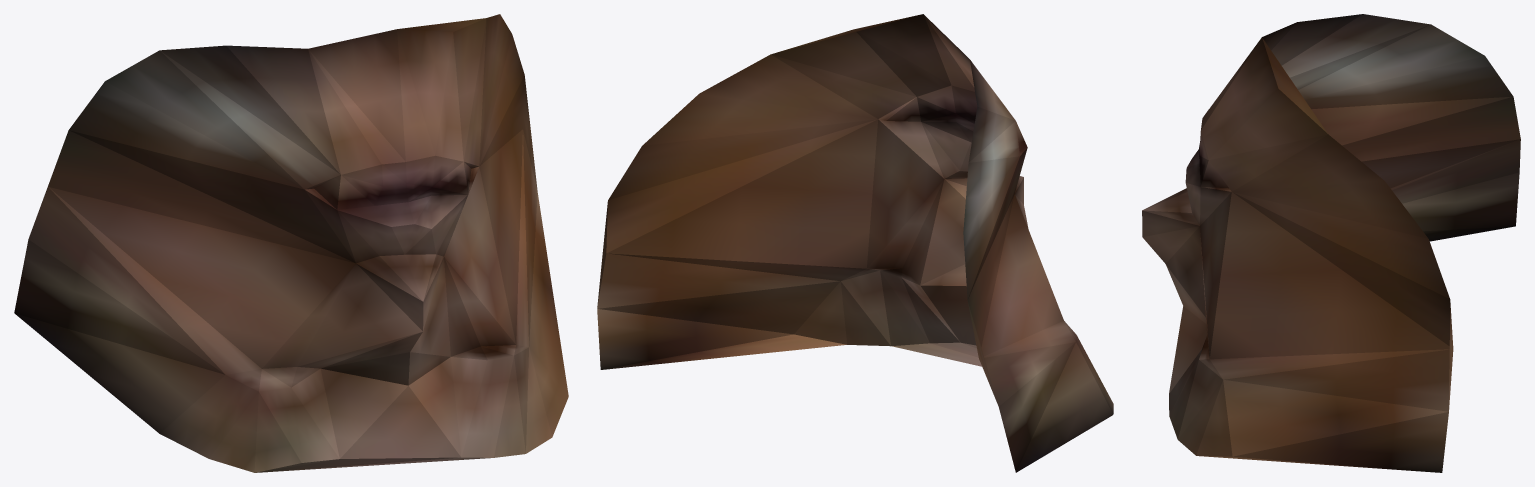
Rendered from real_42213.obj.
The picture shows the model from 3 angles, left to right: view 1: azimuth 30°, elevation 25°; view 2: azimuth 150°, elevation 25°; view 3: azimuth 270°, elevation 25°; orthographic projection. The views are drawn at different scales.
Size of the model in its own units: 119 by 96 by 89.78.
